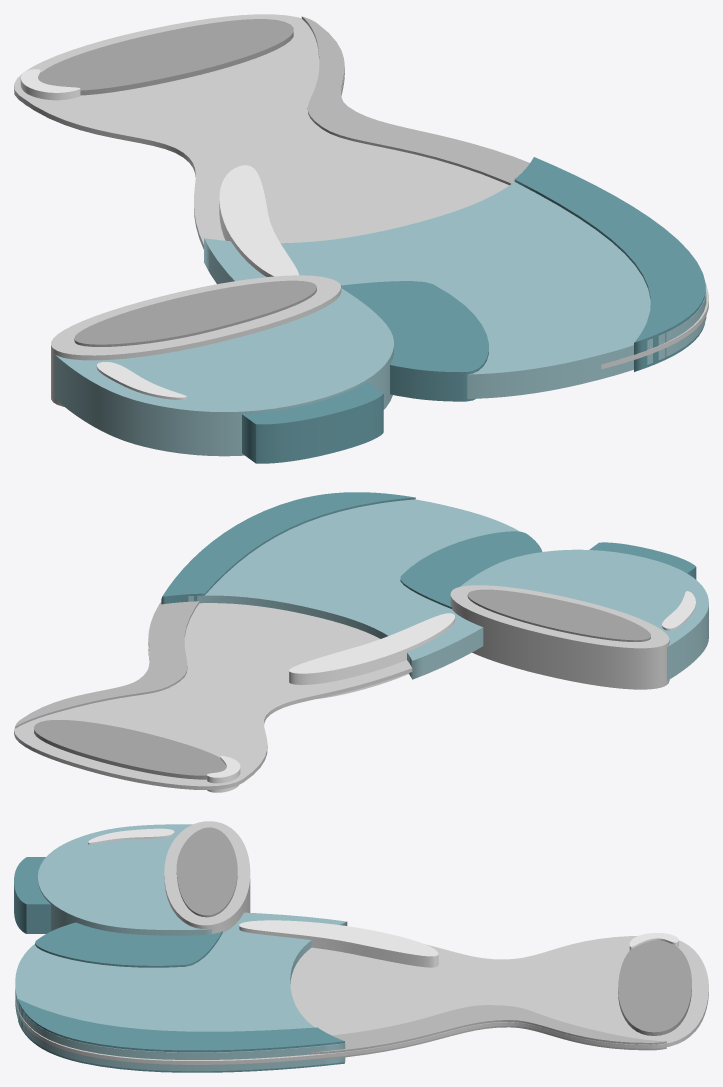
File: emoji_u1f376.glb
The picture shows the model from 3 angles, top to bottom: view 1: azimuth 30°, elevation 25°; view 2: azimuth 150°, elevation 25°; view 3: azimuth 270°, elevation 25°; orthographic projection. The views are drawn at different scales.
Parts seen in each view (by area): view 1: emoji_u1f376; view 2: emoji_u1f376; view 3: emoji_u1f376.
Part boxes in pixels (<box>): emoji_u1f376: <box>14,14,708,463</box>; emoji_u1f376: <box>14,492,708,792</box>; emoji_u1f376: <box>14,821,708,1072</box>.
Size of the model in its own units: 0.0256 by 0.0024 by 0.0338.
